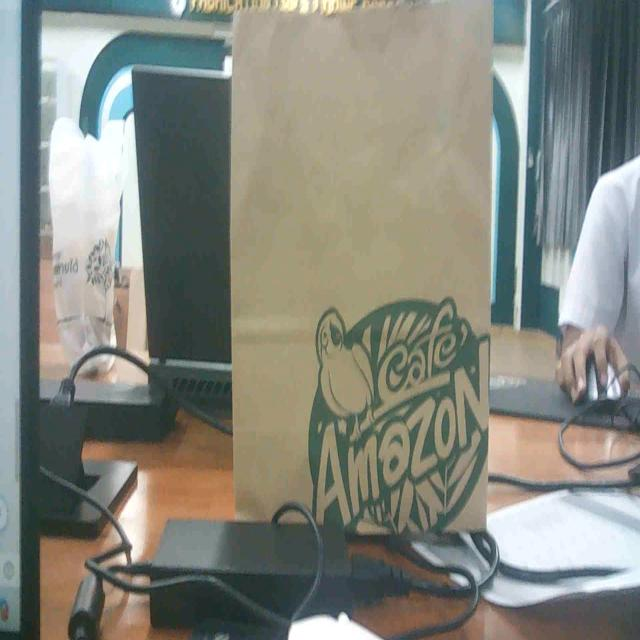bag: (221, 0, 497, 527)
